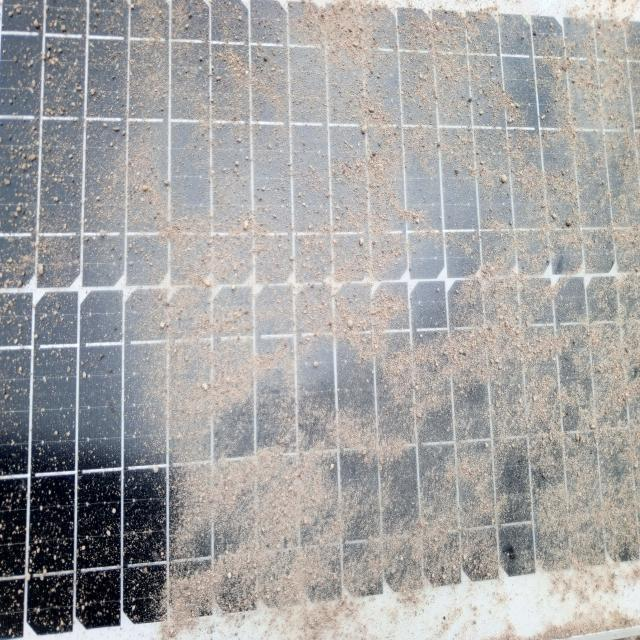Anomaly Solar Panel: (3, 7, 639, 622)
Surface Contaminant: (3, 7, 639, 622)
